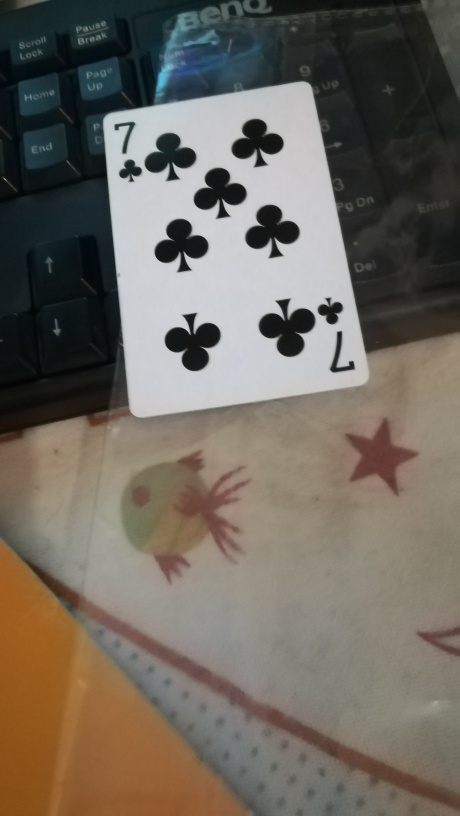mh 7: (100, 82, 371, 417)
